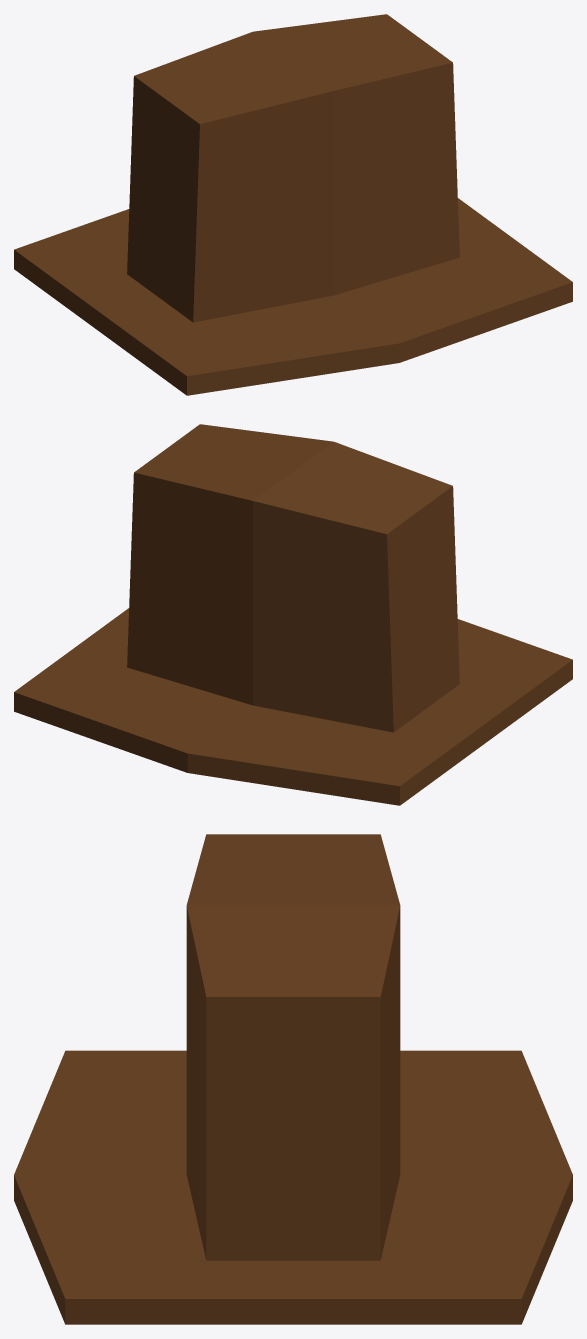
File: Hat.fbx
3 renders of one model, top to bottom at view 1: azimuth 30°, elevation 25°; view 2: azimuth 150°, elevation 25°; view 3: azimuth 270°, elevation 25°, orthographic. The views are drawn at different scales.
Parts seen in each view (by area): view 1: Hat; view 2: Hat; view 3: Hat.
Boxes of the visible parts, x1,y1,x2,y2 form: Hat: (14,14,572,395); Hat: (14,424,572,805); Hat: (14,834,572,1324).
Size of the model in its own units: 193 by 107 by 183.
